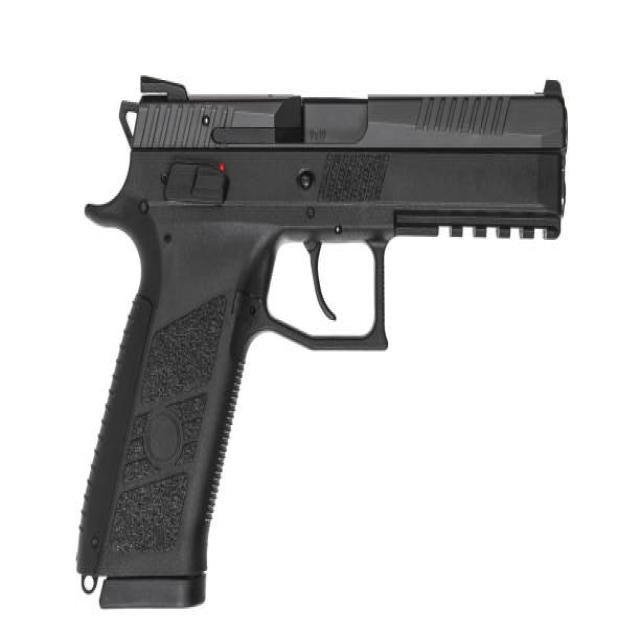pistol: (74, 67, 573, 612)
